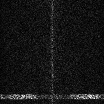wifi: (1, 94, 104, 99)
